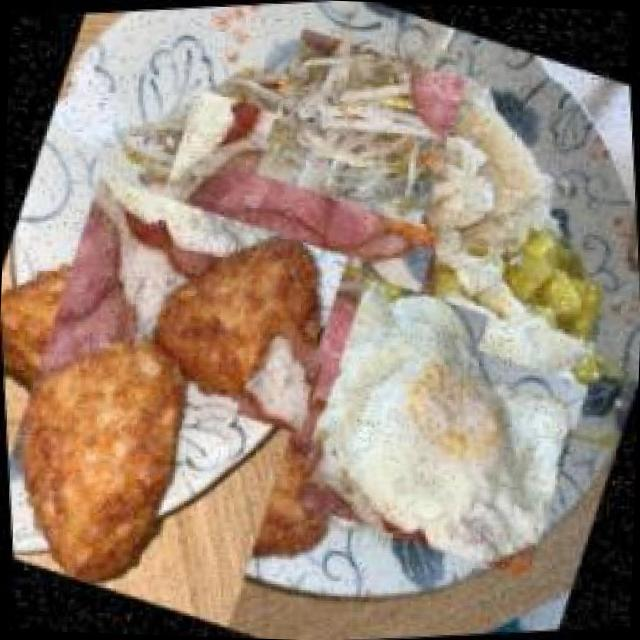chinese_cabbage: (404, 68, 584, 269)
chinese_sausage: (91, 60, 482, 443)
curry: (462, 210, 640, 396)
fried_eggs: (270, 250, 620, 600)
mung_bean_sprouts: (241, 10, 488, 243)
rice: (224, 326, 338, 441)
triangle_hash_brown: (0, 166, 394, 629)
